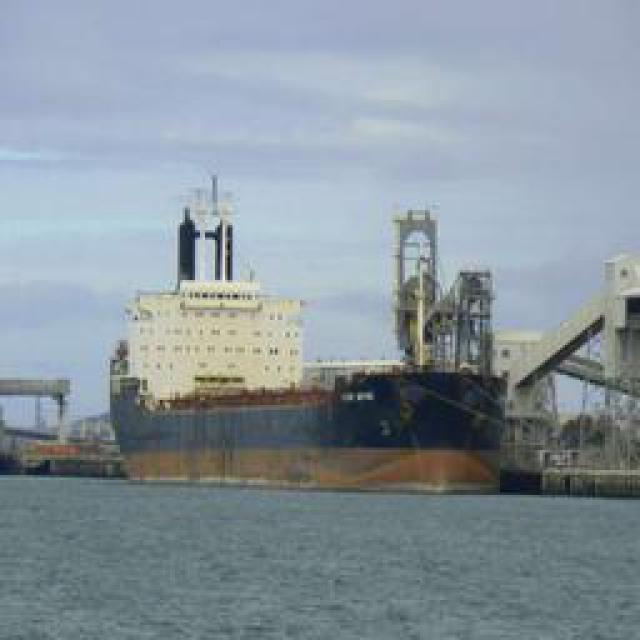Ship: (94, 139, 509, 472)
